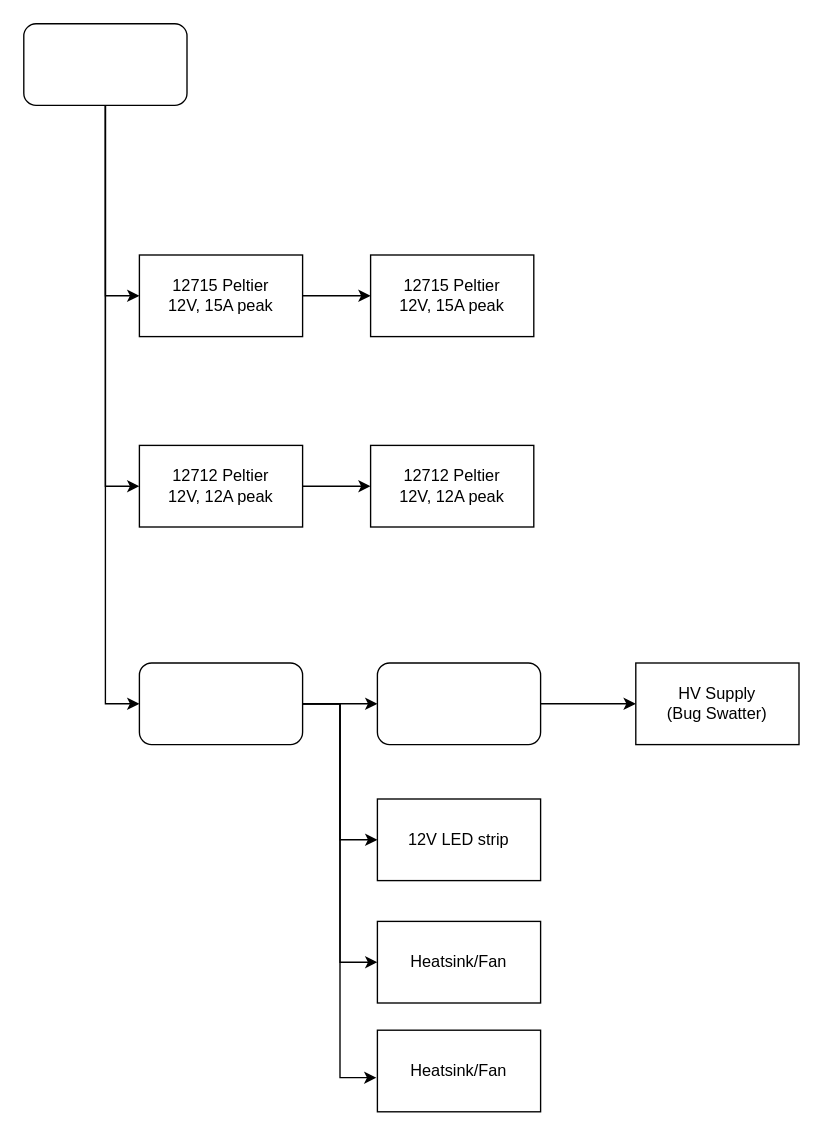
Some shapes in this 823 by 1136 pixel diagram are drawn without their labels. Here are the shapes that lost their labels. From the top down, the box of each, then its label:
(22, 22, 187, 105): 24V supply 40A
(138, 662, 303, 745): 12V supply 6A
(376, 662, 541, 745): 3.3V supply 2A
